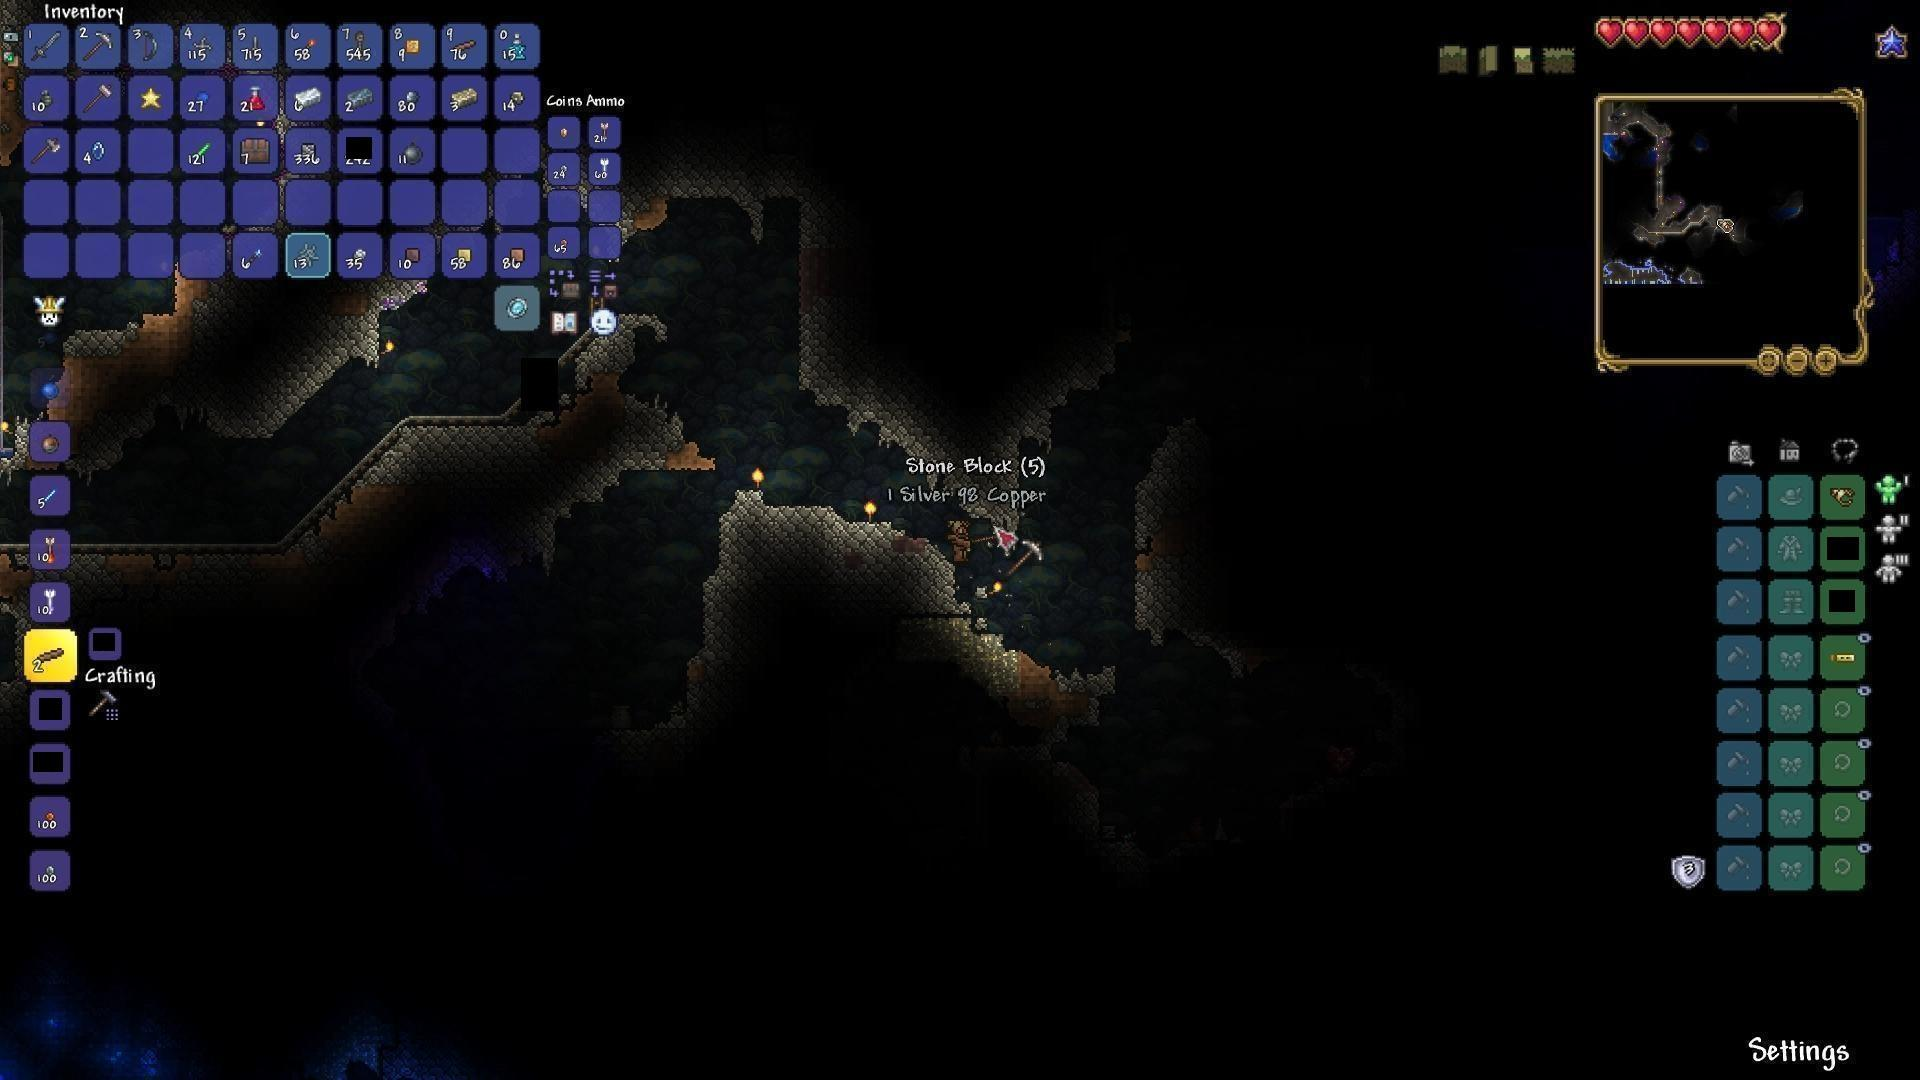helmet: (1829, 485, 1857, 509)
